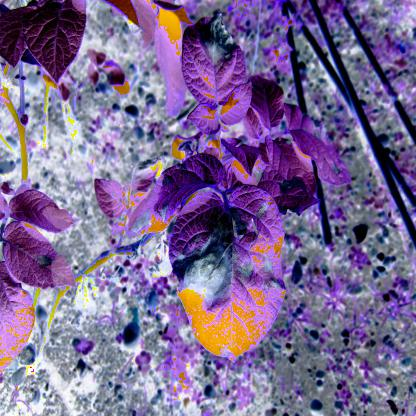potato leaf early blight: (170, 181, 287, 360), (178, 5, 248, 109), (119, 166, 216, 233), (2, 221, 80, 298), (288, 125, 354, 187), (263, 172, 319, 216)
